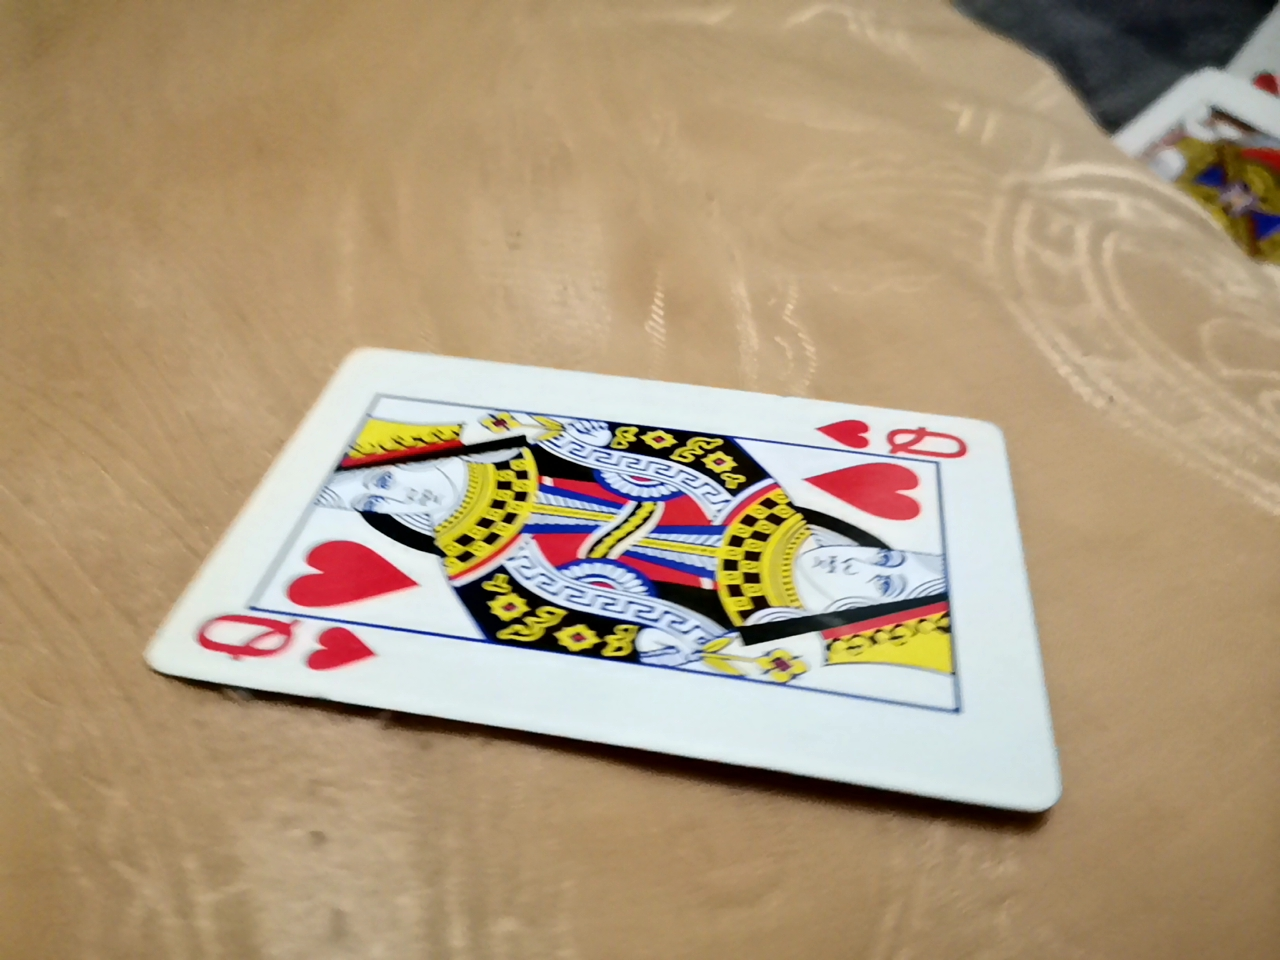hx q: (138, 354, 1053, 823)
